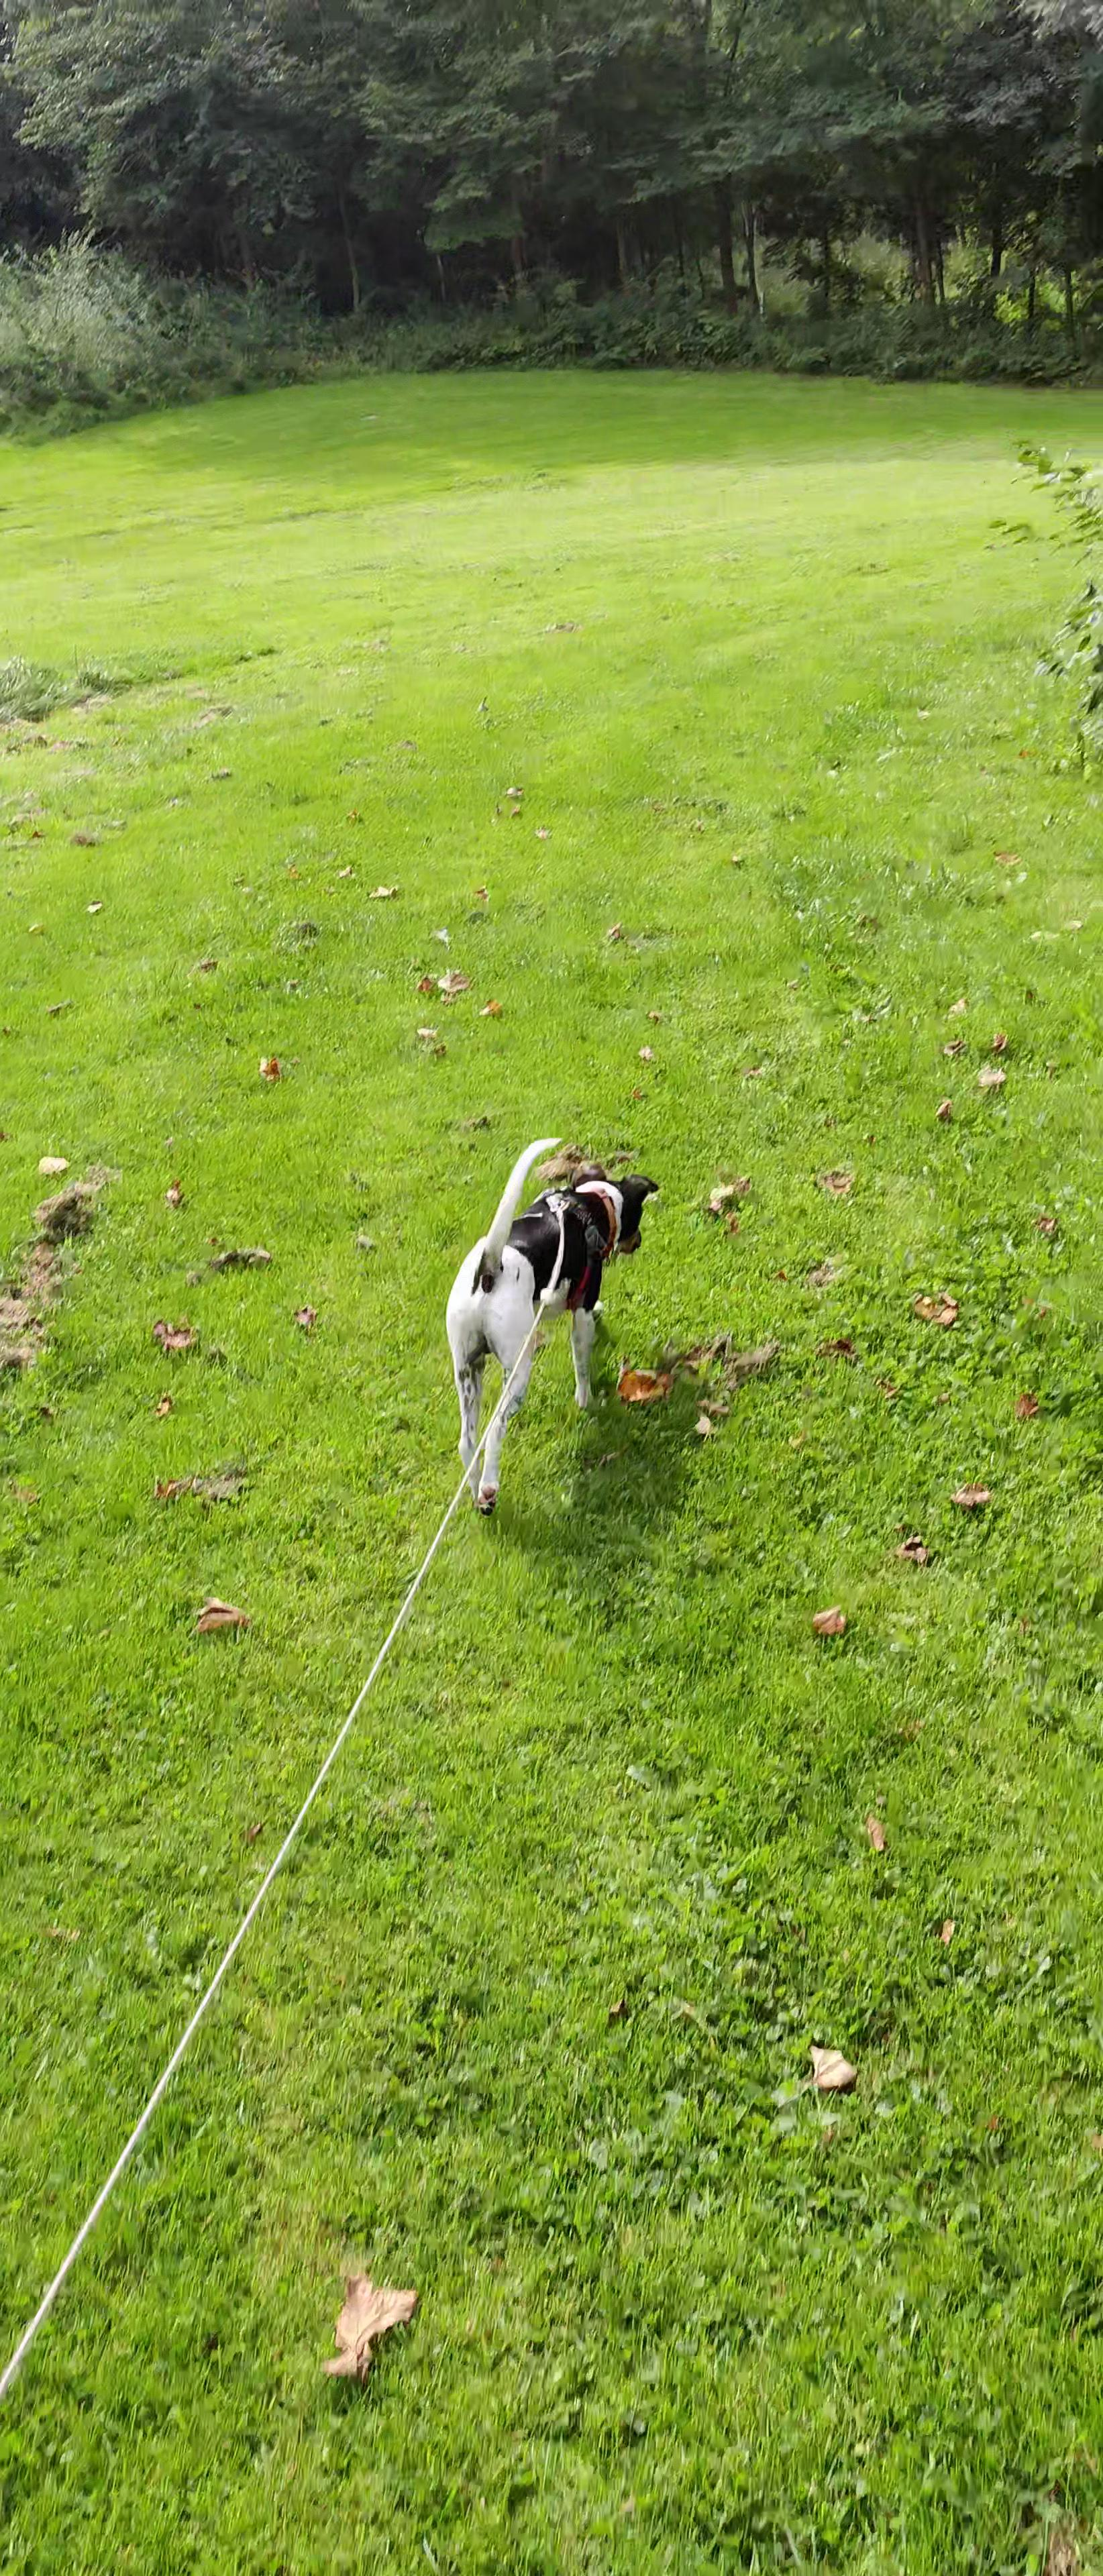Dog: (424, 1129, 684, 1528)
